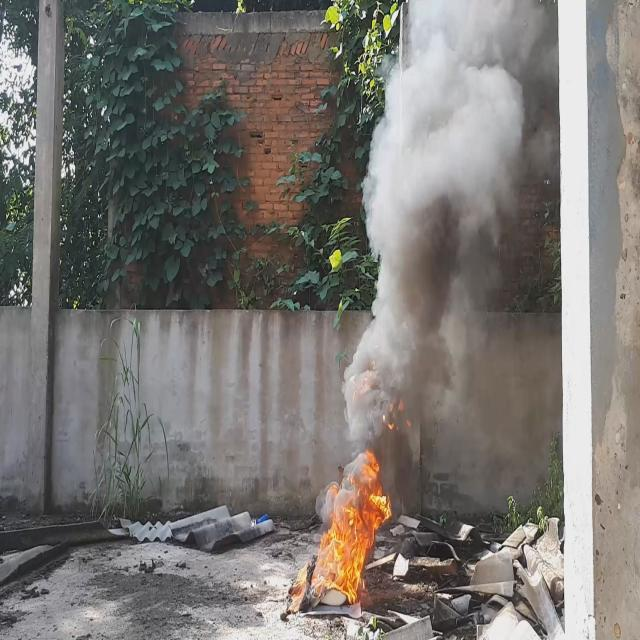Fire: (311, 447, 394, 613)
Smoke: (346, 0, 530, 464)
